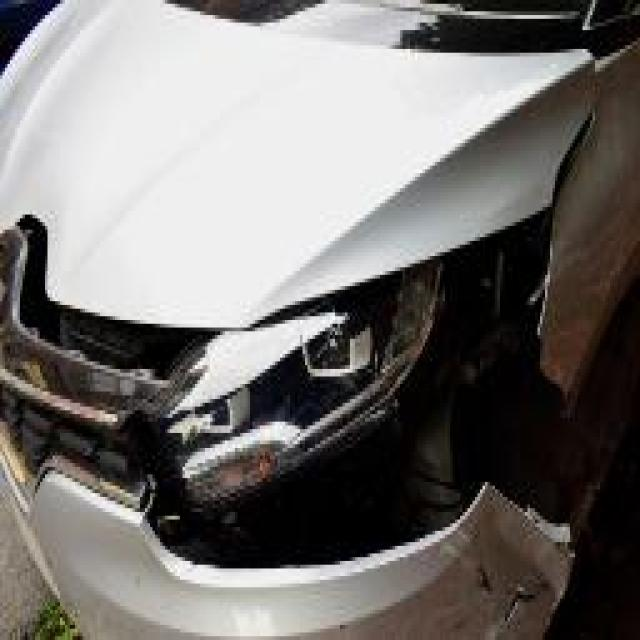Bumper: (40, 467, 585, 640)
Fender: (538, 90, 640, 392)
Light: (198, 294, 478, 410)
